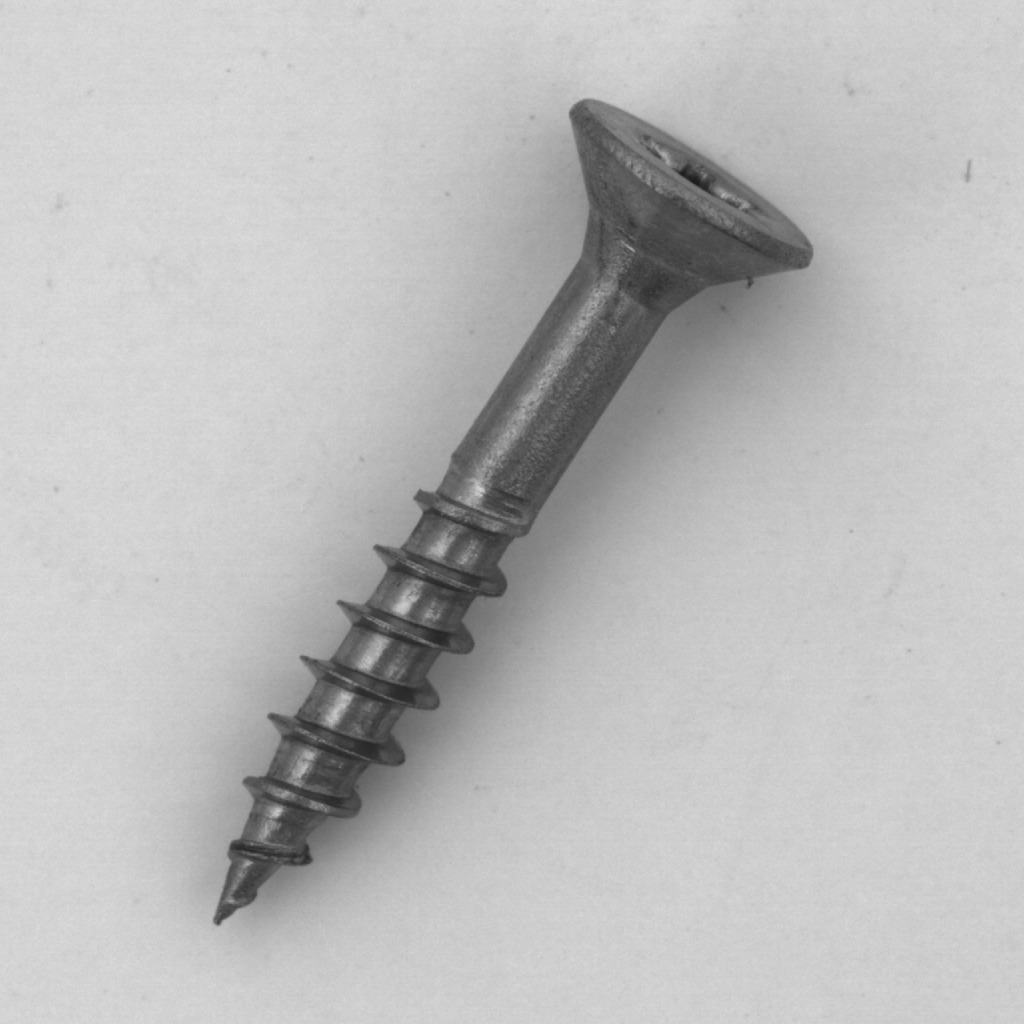good: (192, 77, 837, 947)
